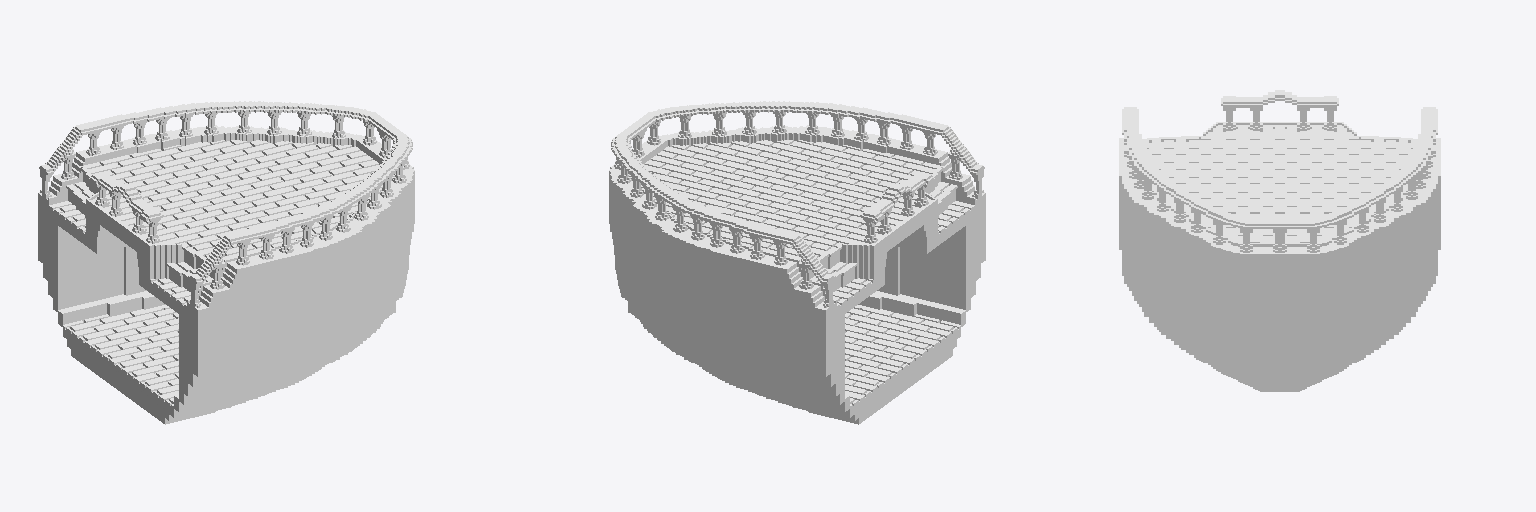
File: ship-6.obj
The picture shows the model from 3 angles: view 1: azimuth 30°, elevation 25°; view 2: azimuth 150°, elevation 25°; view 3: azimuth 270°, elevation 25°; orthographic projection.
Visible parts, largest first — view 1: object 1; view 2: object 1; view 3: object 1.
Boxes of the visible parts, <box> form: object 1: <box>38,101,414,424</box>; object 1: <box>609,101,985,424</box>; object 1: <box>1119,90,1440,391</box>.
Bounding box in the file's own units: 12.9 × 9 × 13.